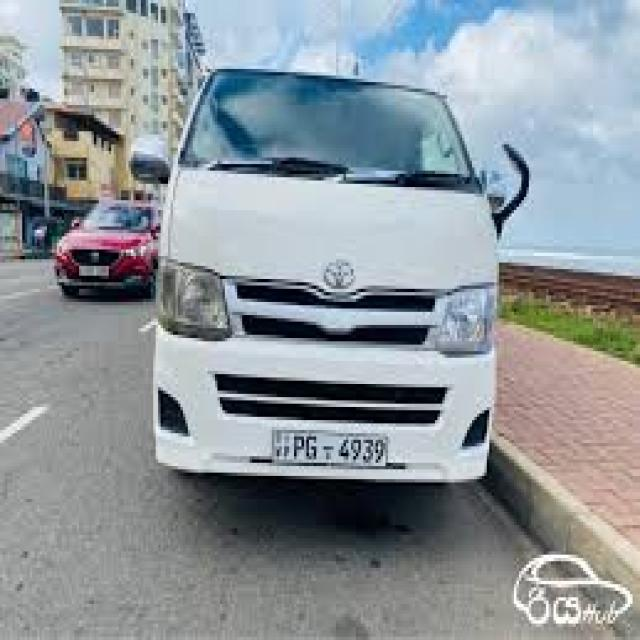car: (54, 200, 156, 295)
van: (153, 69, 526, 482)
